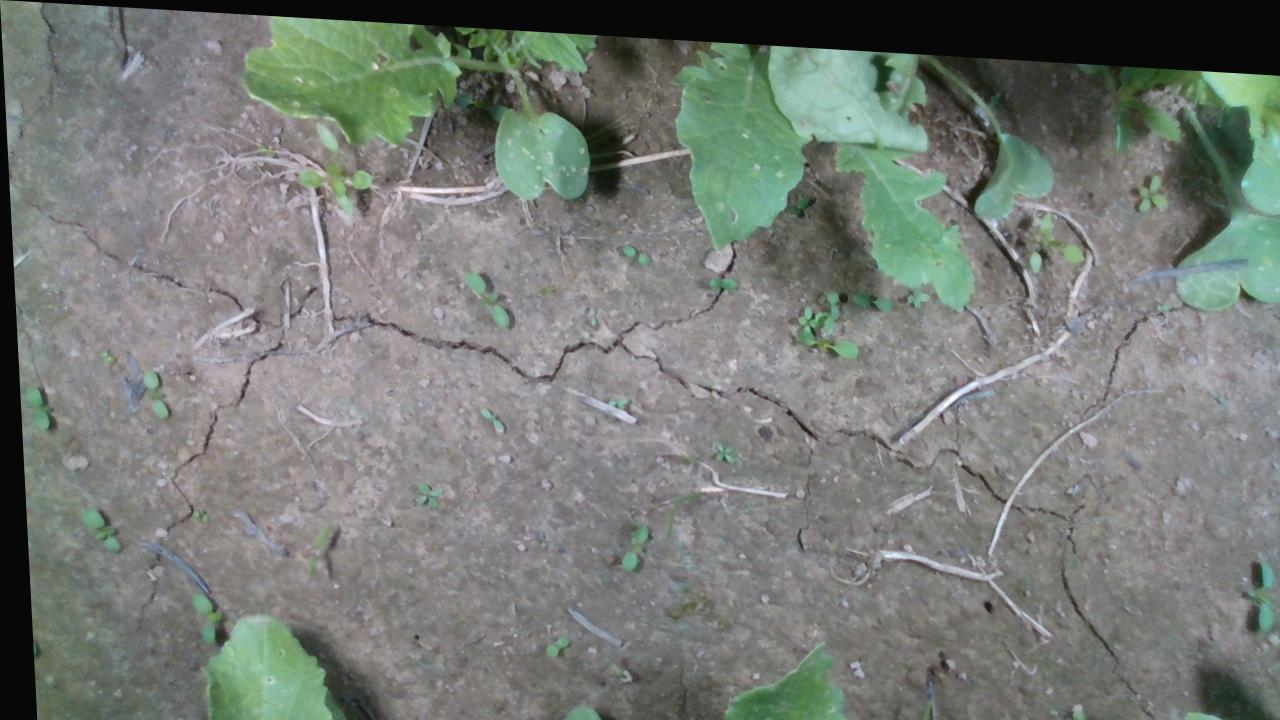weed: (459, 264, 509, 323), (71, 504, 116, 552), (295, 513, 327, 575), (612, 513, 645, 565), (1248, 540, 1269, 618), (1130, 155, 1166, 200), (136, 366, 165, 417), (17, 383, 44, 430), (406, 474, 440, 506), (846, 278, 889, 302), (473, 399, 503, 429), (1059, 691, 1086, 719), (617, 234, 649, 256), (536, 626, 563, 651), (707, 429, 732, 455), (702, 266, 734, 284), (184, 504, 204, 519)
